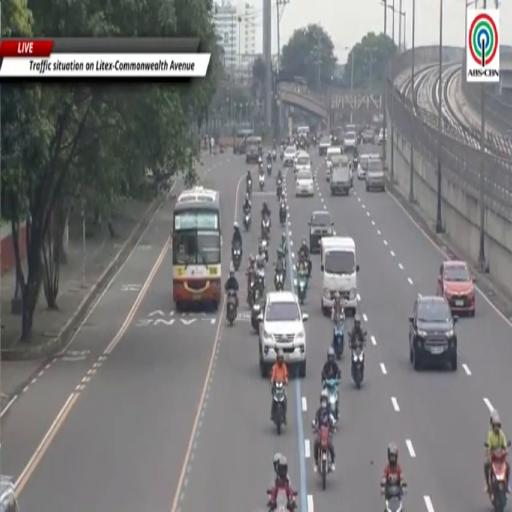bus: (172, 187, 221, 311)
car: (259, 291, 308, 377), (409, 295, 458, 371), (437, 261, 475, 316), (309, 211, 333, 253), (0, 476, 19, 511), (326, 147, 342, 181), (296, 169, 314, 196), (295, 151, 311, 172), (283, 145, 297, 168), (357, 154, 369, 180), (343, 132, 357, 152), (319, 137, 330, 156), (376, 128, 386, 145), (362, 130, 375, 143), (345, 124, 356, 132)
motorcycle: (490, 450, 507, 511), (316, 426, 331, 490), (273, 381, 285, 435), (383, 483, 406, 511), (324, 379, 338, 422), (332, 314, 345, 360), (351, 347, 364, 389), (274, 489, 297, 511), (251, 290, 261, 331), (227, 291, 237, 326), (297, 272, 307, 305), (299, 250, 311, 277), (278, 249, 287, 277), (256, 268, 265, 296), (232, 246, 241, 270), (259, 238, 268, 262), (274, 270, 284, 291), (261, 216, 270, 239), (248, 279, 255, 307), (279, 204, 287, 227), (243, 210, 251, 231), (246, 180, 252, 198), (259, 174, 265, 191), (277, 184, 282, 200), (267, 163, 272, 175), (272, 148, 276, 162), (280, 150, 284, 161), (313, 136, 316, 147)
truck: (330, 155, 351, 195), (366, 157, 385, 191)
